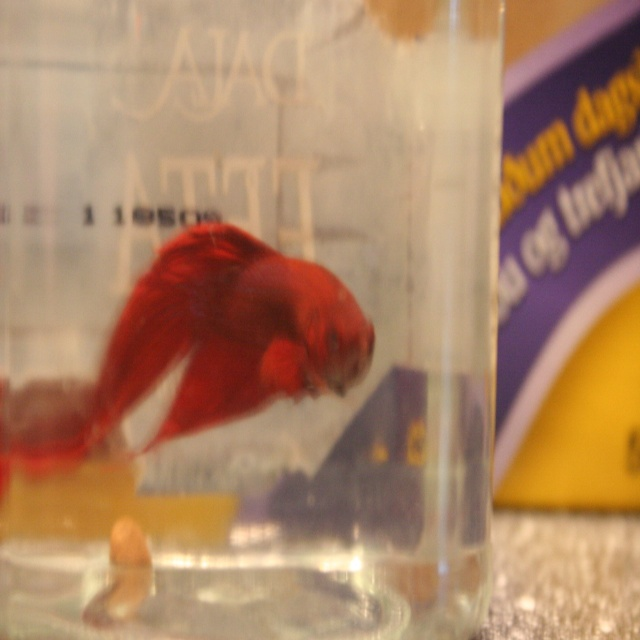Goldfish: (75, 220, 376, 445)
